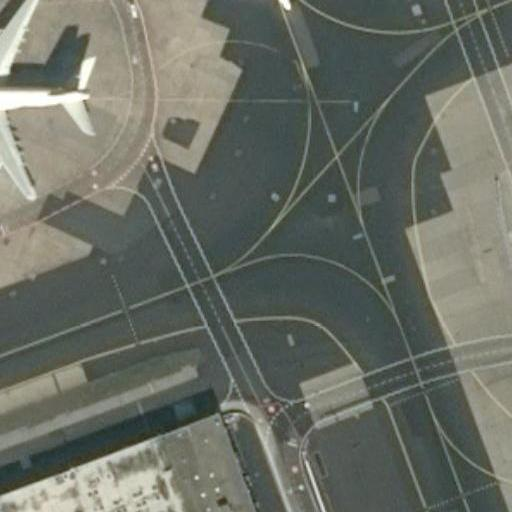Aircraft: (0, 0, 99, 200), (0, 0, 93, 202), (222, 0, 309, 13), (222, 0, 311, 8)
